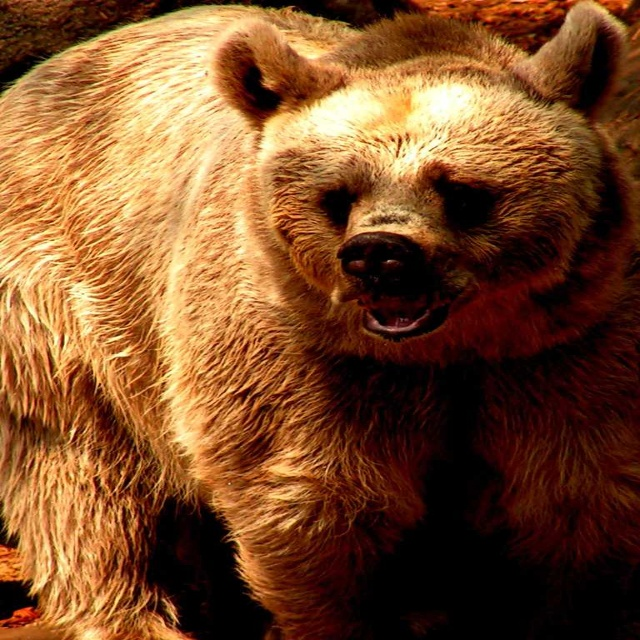Brown bear: (0, 2, 639, 640)
